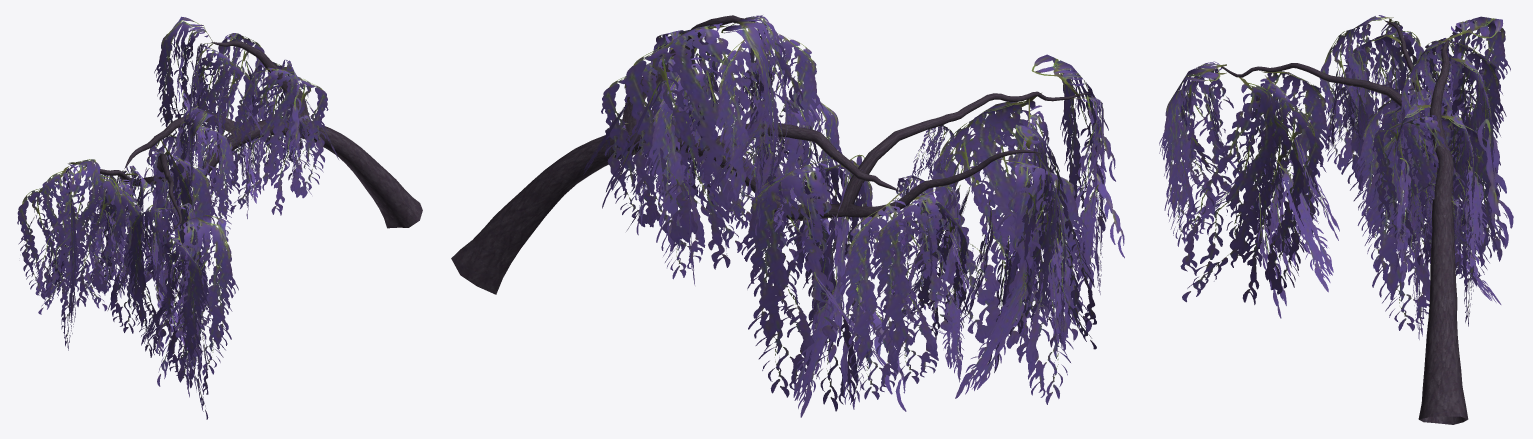
3 views of the same model, side by side, from view 1: azimuth 30°, elevation 25°; view 2: azimuth 150°, elevation 25°; view 3: azimuth 270°, elevation 25° (orthographic). The views are drawn at different scales.
Visible parts, largest first — view 1: SM_FH_CliffTree_01_LOD0; view 2: SM_FH_CliffTree_01_LOD0; view 3: SM_FH_CliffTree_01_LOD0.
Part boxes in pixels (<box>): SM_FH_CliffTree_01_LOD0: <box>17,16,422,419</box>; SM_FH_CliffTree_01_LOD0: <box>451,15,1124,417</box>; SM_FH_CliffTree_01_LOD0: <box>1159,15,1513,424</box>.
Bounding box in the file's own units: 8.14 × 5.45 × 5.01.
1 material, 1 textured.
